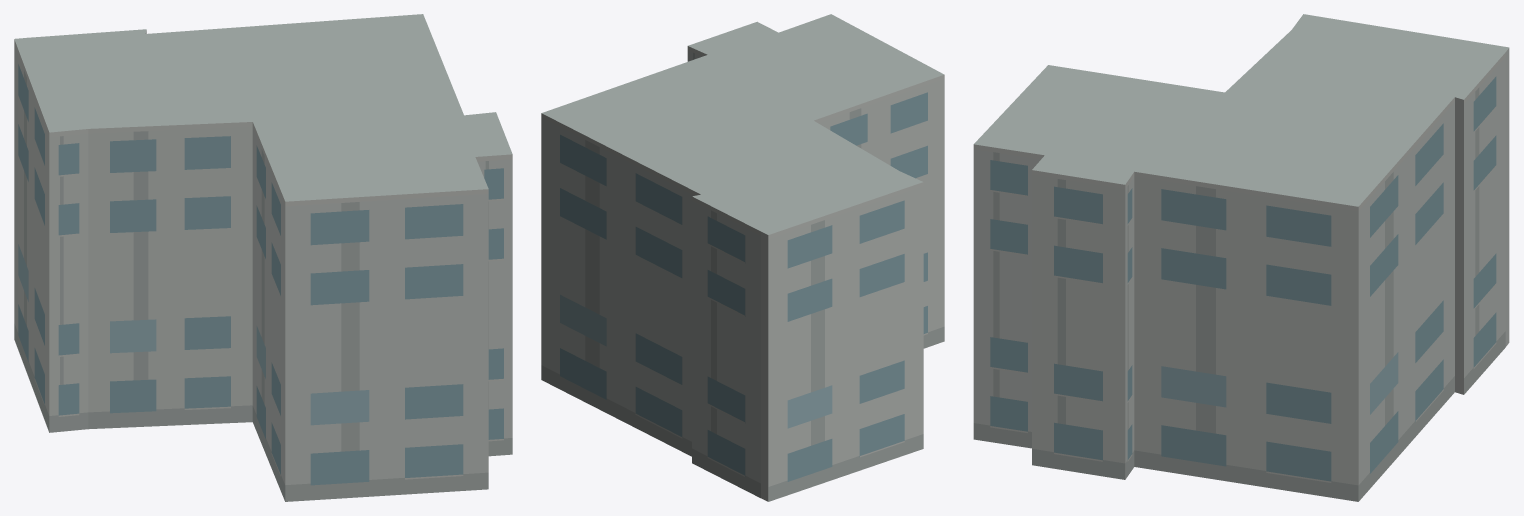
The model's file is survey-upis-32945631.glb.
The picture shows the model from 3 angles, left to right: view 1: azimuth 30°, elevation 25°; view 2: azimuth 150°, elevation 25°; view 3: azimuth 270°, elevation 25°; orthographic projection. The views are drawn at different scales.
Parts seen in each view (by area): view 1: survey-upis-32945631.tmp; view 2: survey-upis-32945631.tmp; view 3: survey-upis-32945631.tmp.
Part boxes in pixels (<box>): survey-upis-32945631.tmp: <box>14,14,512,501</box>; survey-upis-32945631.tmp: <box>541,14,944,501</box>; survey-upis-32945631.tmp: <box>973,14,1509,501</box>.
Size of the model in its own units: 21.37 by 15.25 by 25.1.
